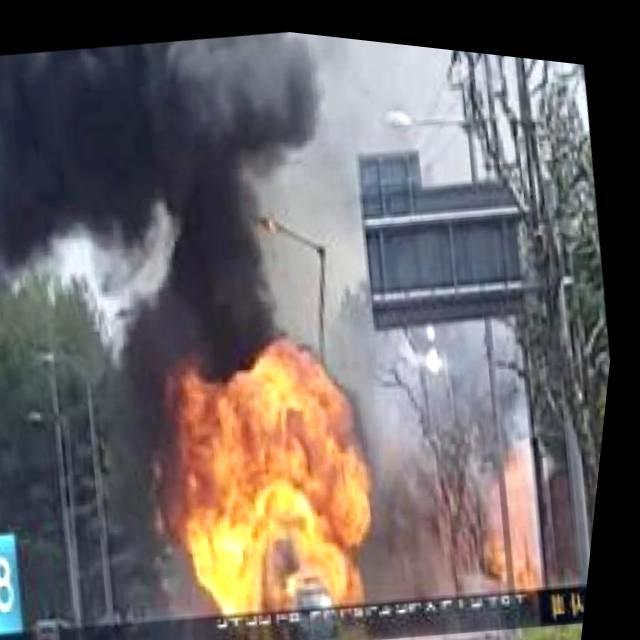fire: (158, 330, 402, 634)
